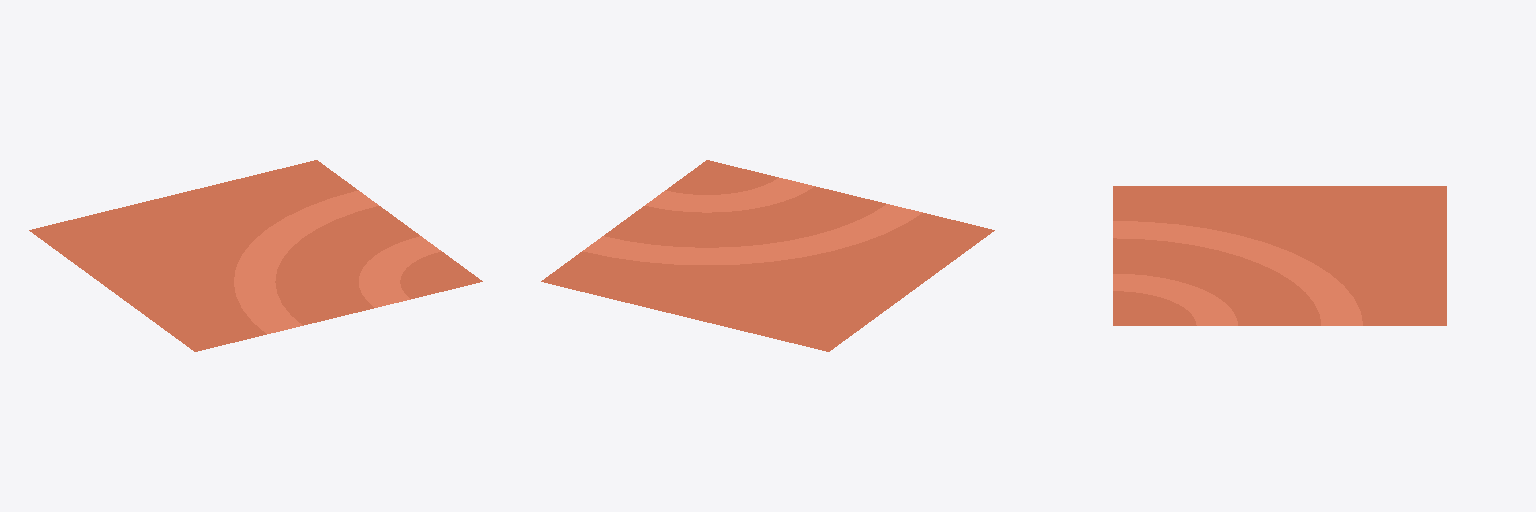
Rendered from terrain_roadCorner.obj.
The picture shows the model from 3 angles: view 1: azimuth 30°, elevation 25°; view 2: azimuth 150°, elevation 25°; view 3: azimuth 270°, elevation 25°; orthographic projection.
Visible parts, largest first — view 1: terrain_roadCorner; view 2: terrain_roadCorner; view 3: terrain_roadCorner.
Boxes of the visible parts, <box> form: terrain_roadCorner: <box>29,160,482,351</box>; terrain_roadCorner: <box>541,160,994,351</box>; terrain_roadCorner: <box>1113,186,1446,325</box>.
Bounding box in the file's own units: 1 × 0 × 1.